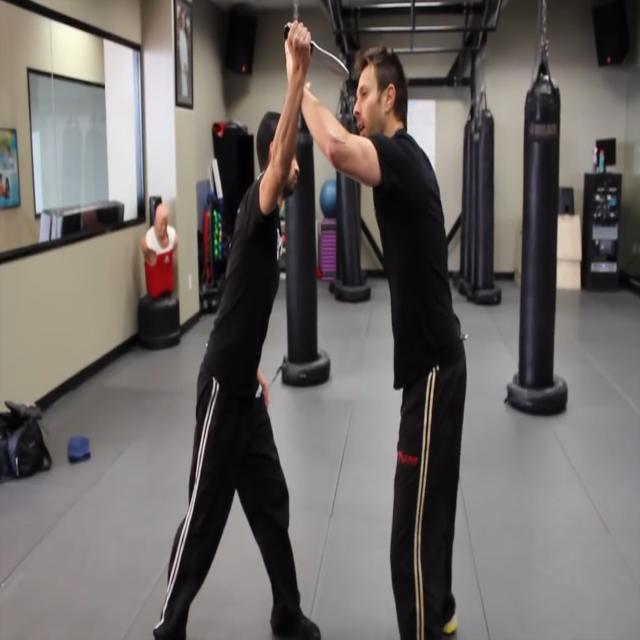knife: (307, 42, 354, 87)
